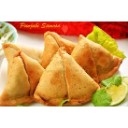samosa: (35, 49, 94, 104), (2, 43, 43, 105), (72, 33, 121, 77)
